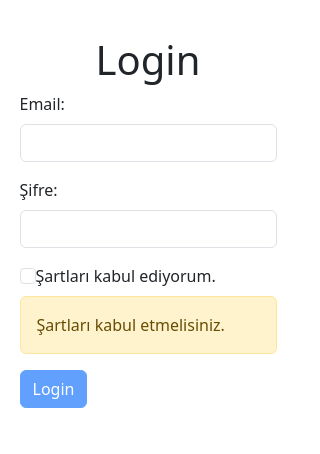
Scenario: hata mesajları › email hatalı girilince bir hata mesajı görülüyor
Type "mehmet@" into the field with id "email" at (149, 143), box [20,124,277,162]
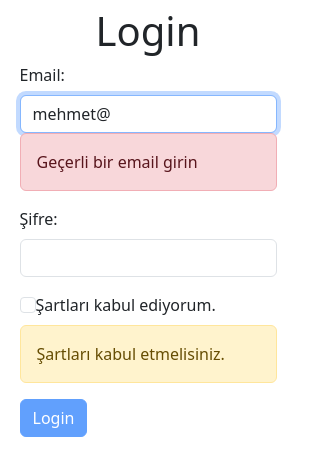
Now the number of messages with class "error" is 1, box [20,133,277,191]
